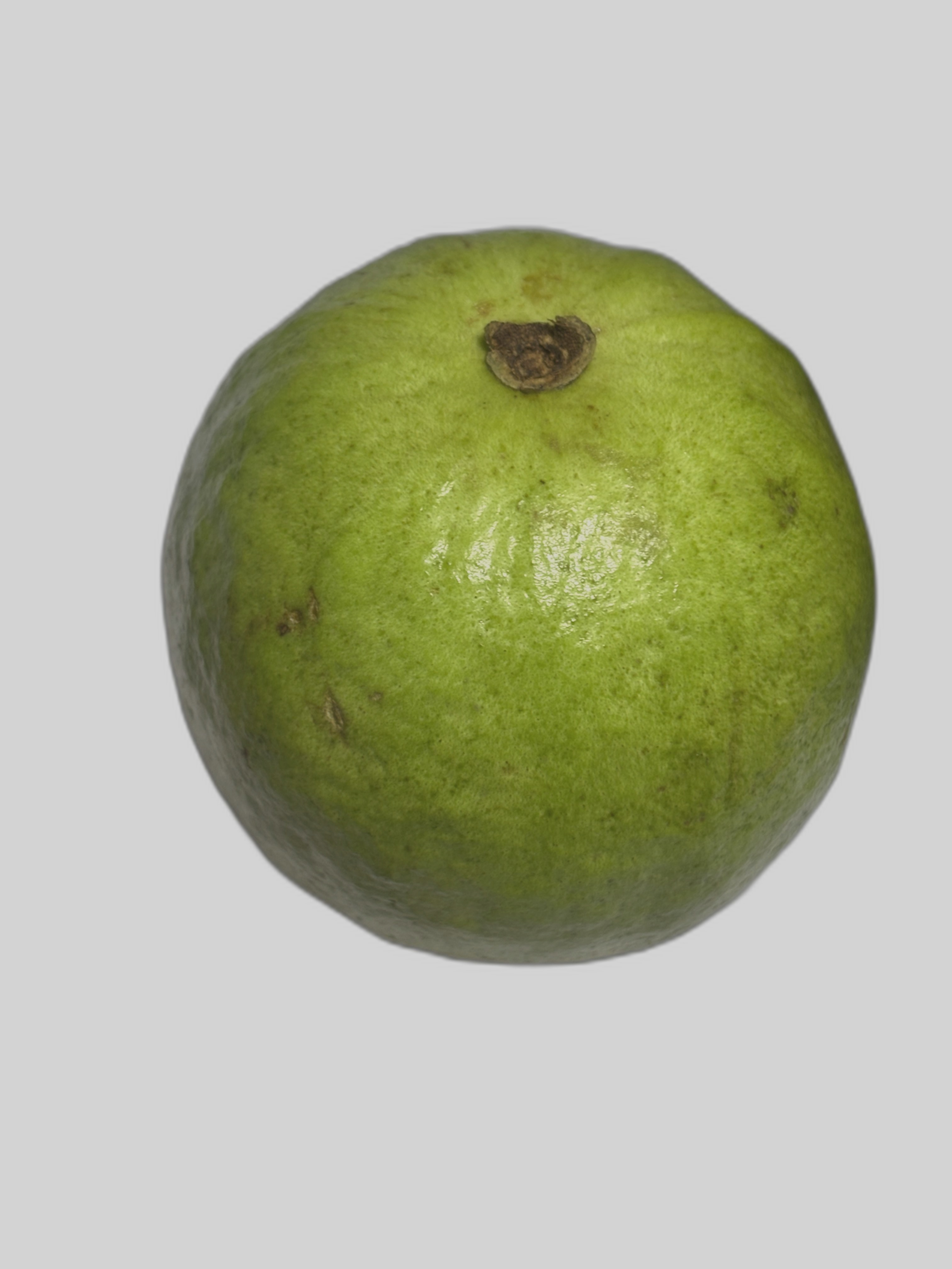guava: (134, 282, 797, 1062)
